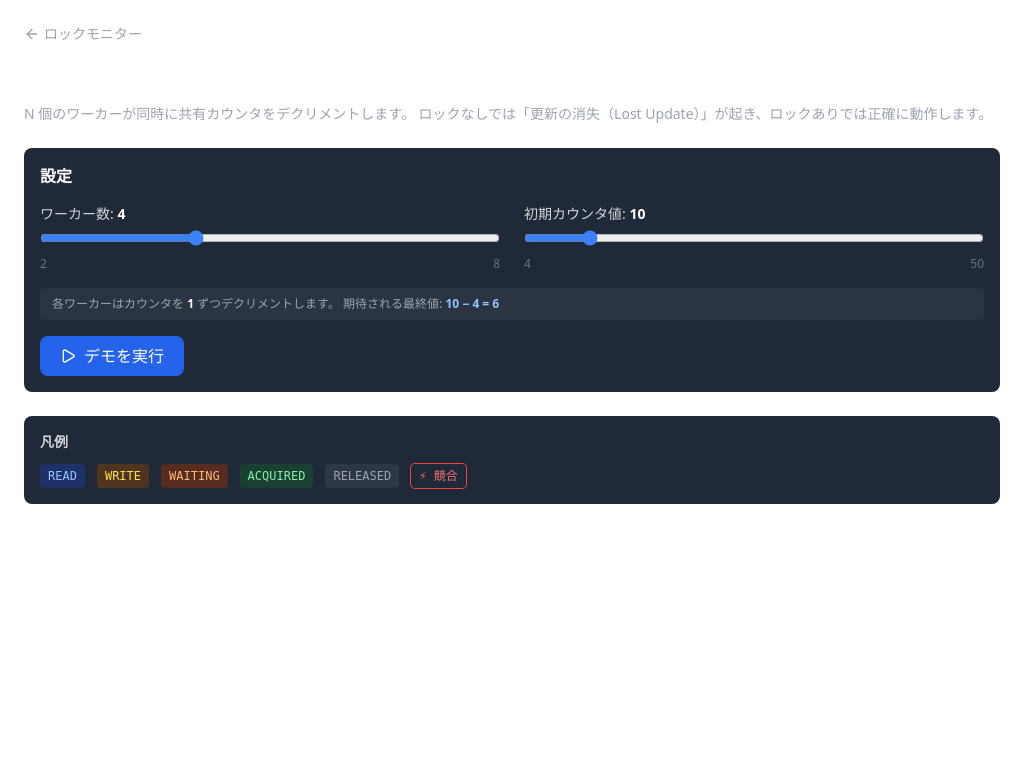
Test case: LockDemoPage › shows "データ損失" badge for incorrect result
Click the button "デモを実行": {"x": 112, "y": 356} [40, 336, 184, 376]
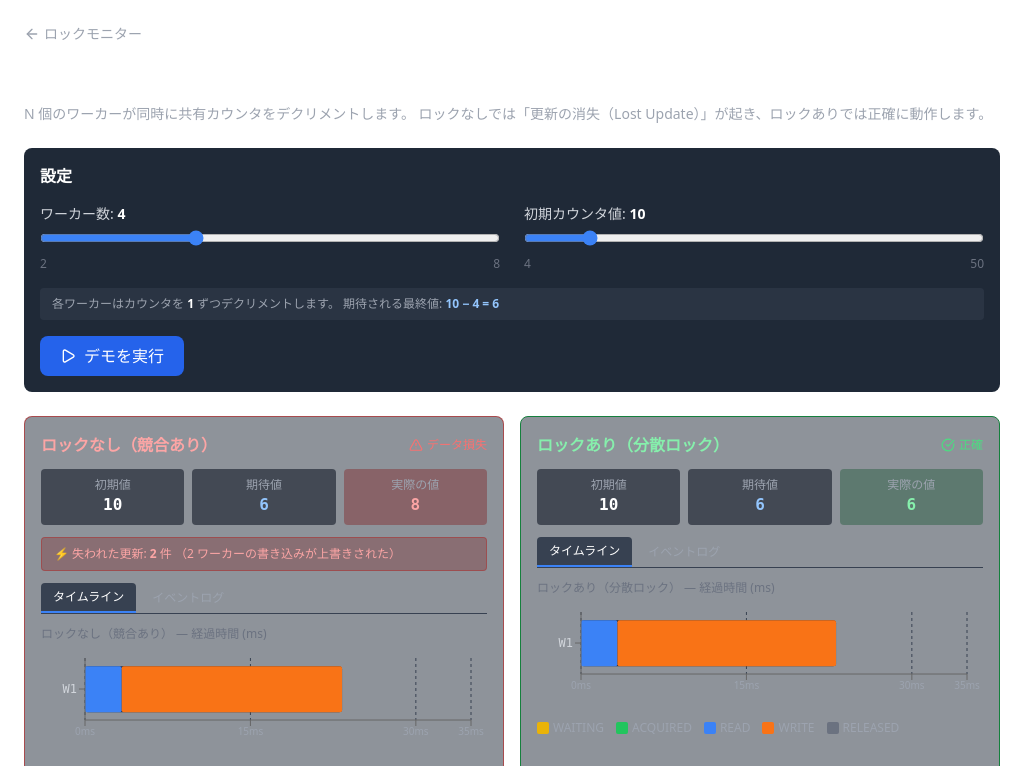
Result: the text "データ損失" is shown at [409, 437, 487, 453]
